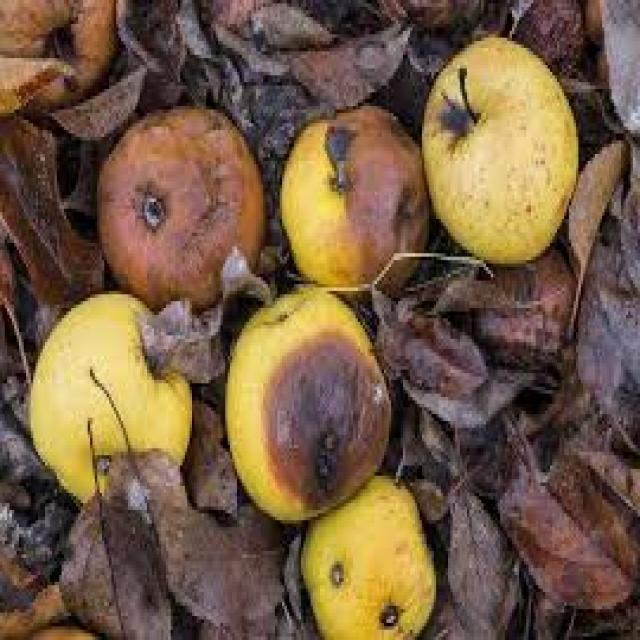organic: (32, 292, 189, 501), (277, 104, 430, 294), (142, 450, 294, 639), (429, 50, 566, 256), (300, 471, 436, 640), (399, 356, 536, 439)
